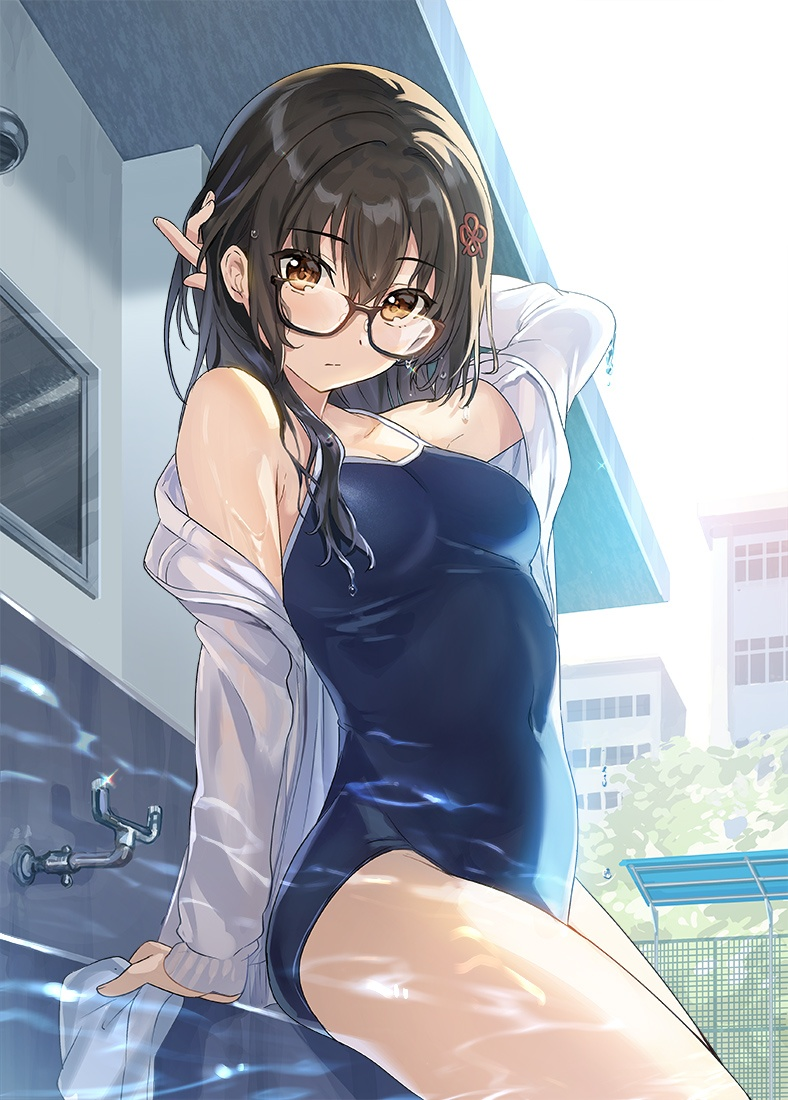纸片人正脸: (181, 54, 495, 403)
